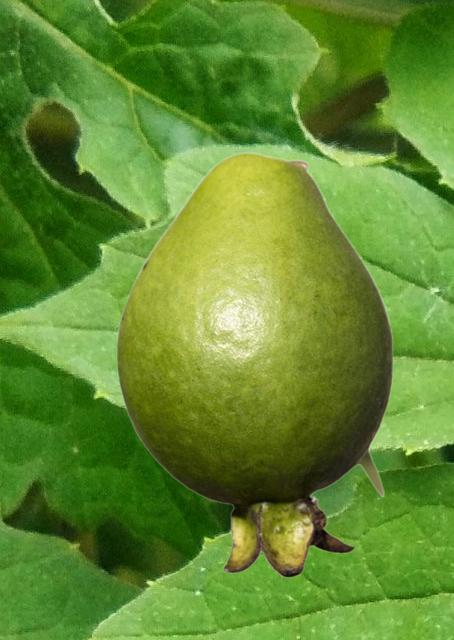guava: (116, 151, 392, 577)
